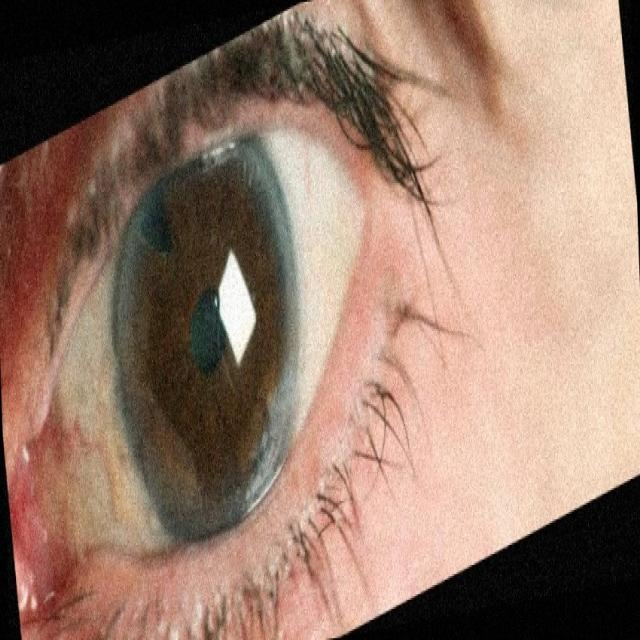Cataract: (63, 132, 356, 558)
